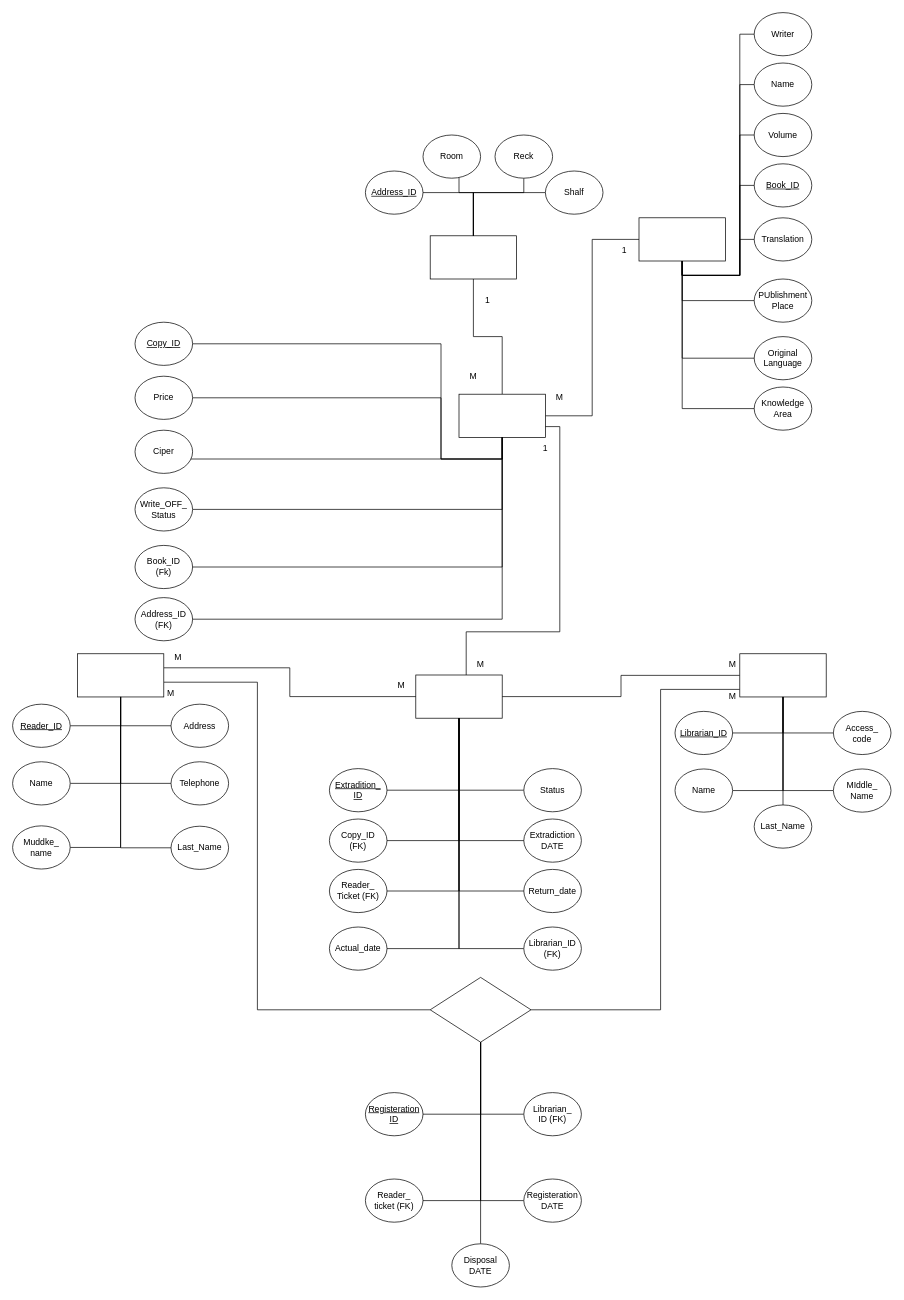
Image size: 904x1300. Some labels were removed from this diagram. Each missing label, with the centre of its shape:
Book: [681,239]
Copy: [501,415]
Extridition: [458,696]
LIbrarian: [782,675]
Reader: [120,675]
Registeration: [480,1009]
Storage_Address: [473,257]
